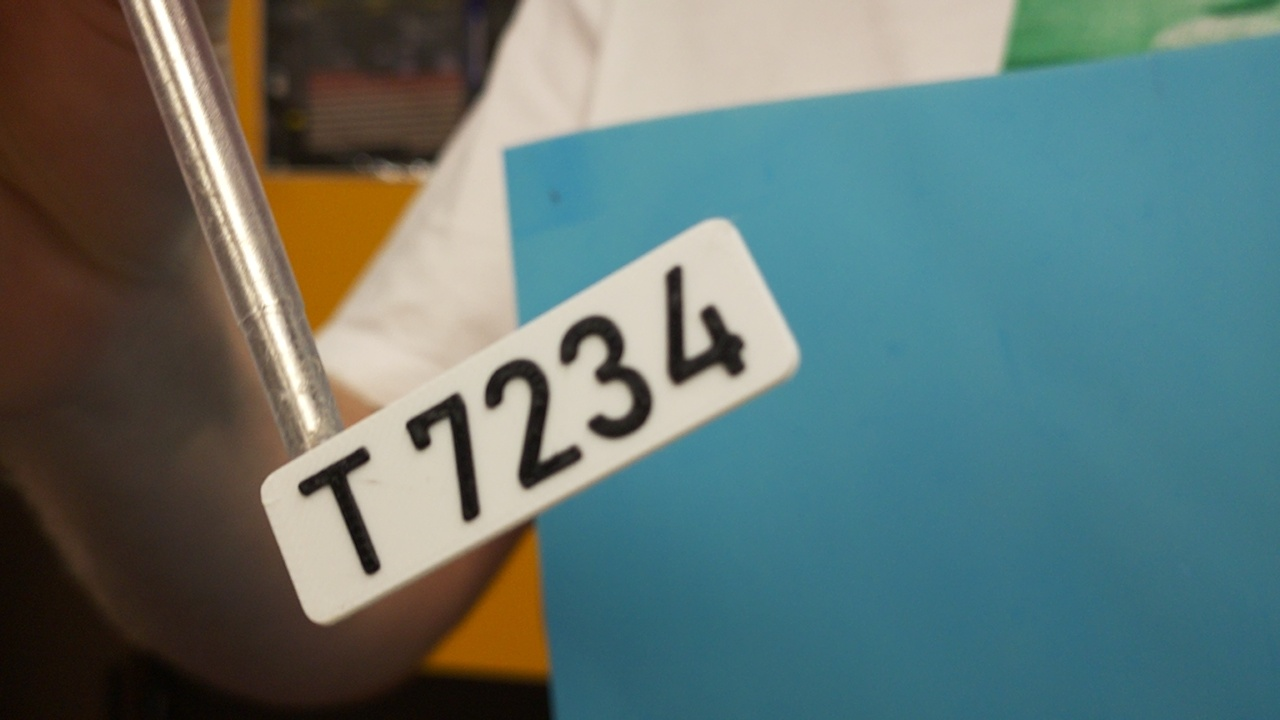license_plate: (258, 208, 806, 632)
